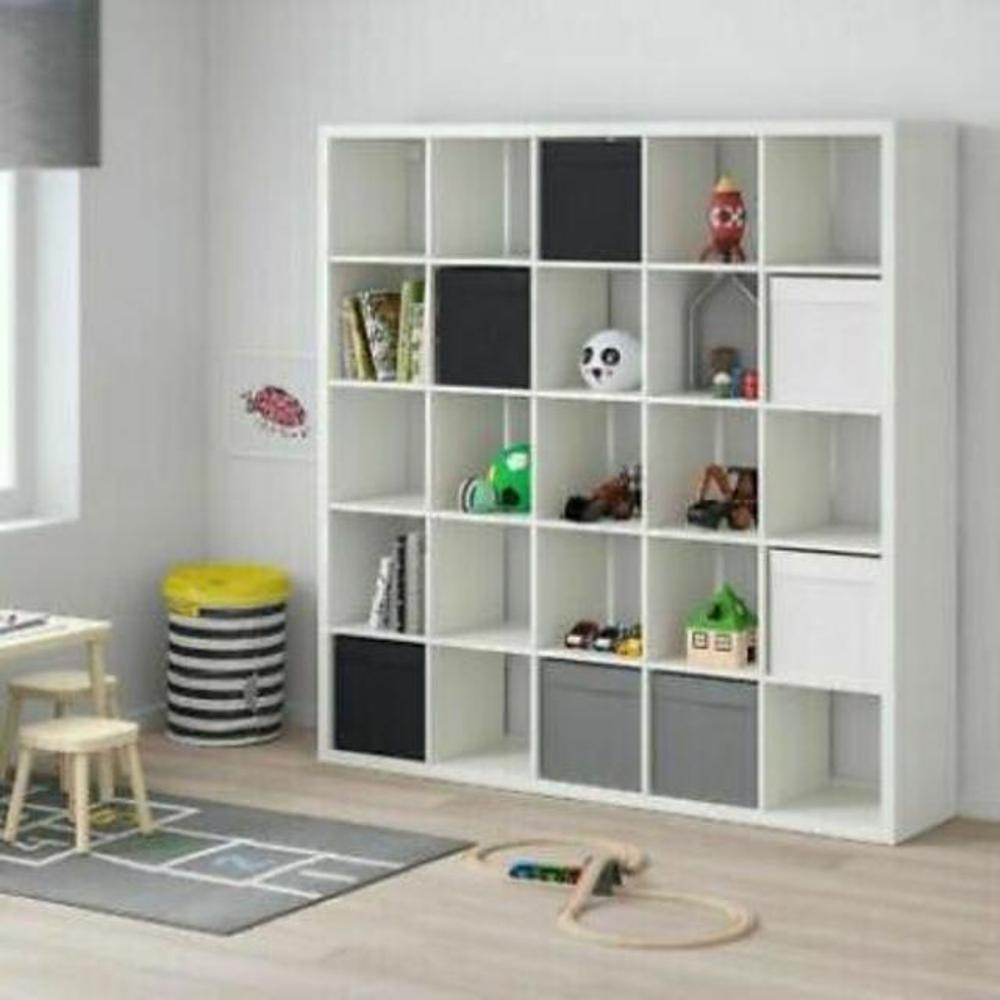lamp: (308, 112, 963, 850)
